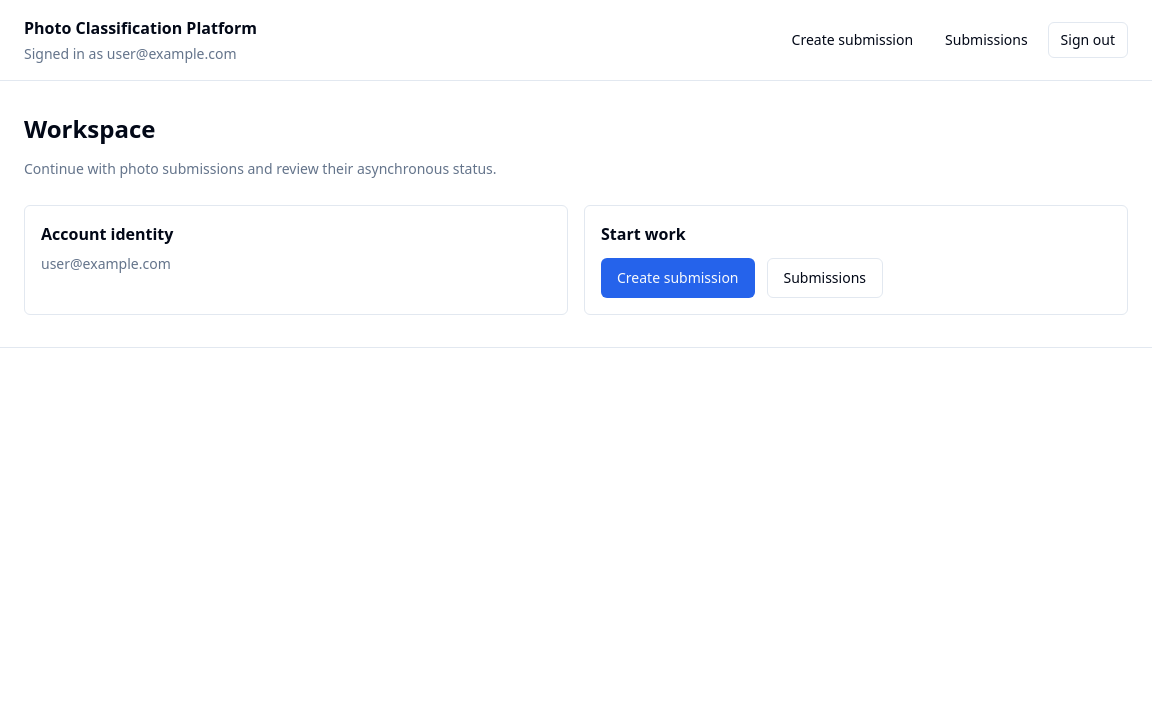
Test: auth route flow › signs out, clears session storage, and returns to public auth flow
Click the button "Sign out" at (1088, 40), box [1048, 22, 1128, 58]
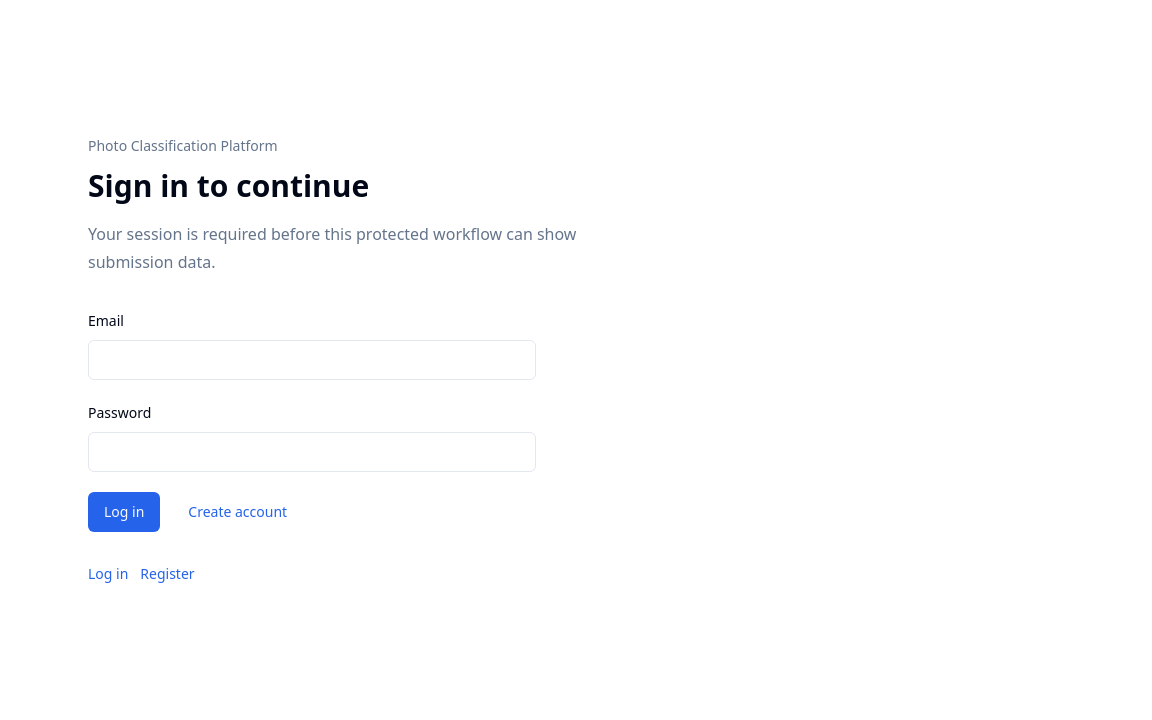
Check: the heading "Sign in to continue" is shown, box [88, 165, 369, 206]
